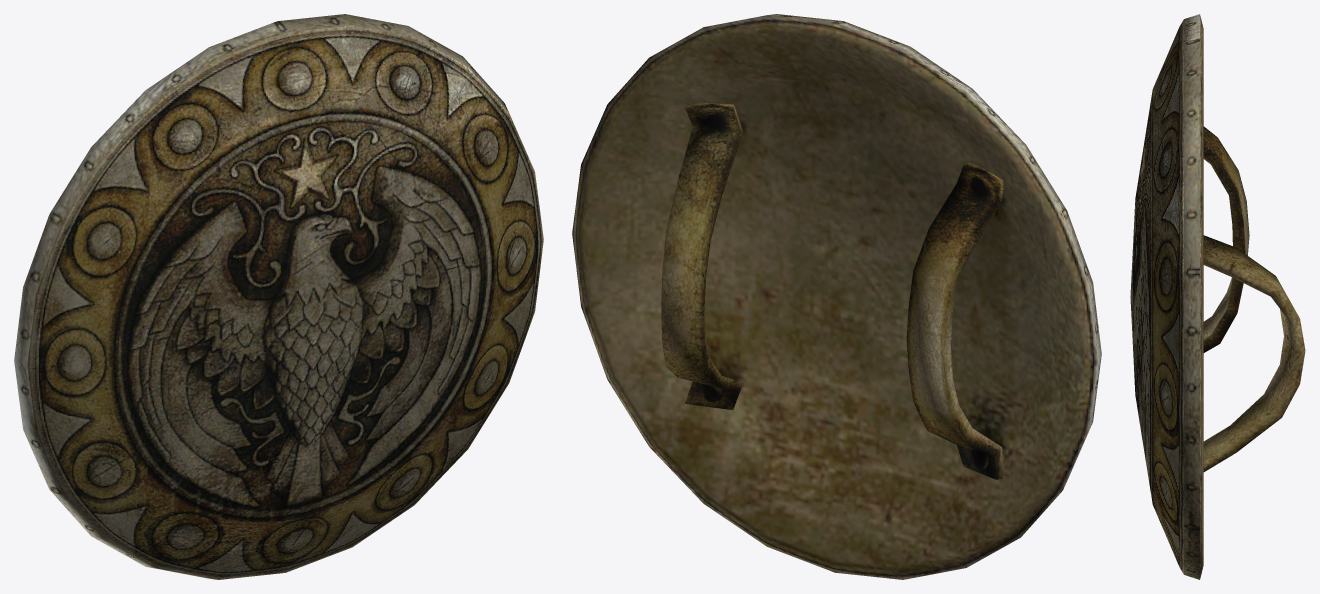
The model's file is Wonder_Woman_V_Shield.obj.
3 renders of one model, left to right at view 1: azimuth 30°, elevation 25°; view 2: azimuth 150°, elevation 25°; view 3: azimuth 270°, elevation 25°, orthographic. The views are drawn at different scales.
Parts seen in each view (by area): view 1: WWVshield; view 2: WWVshield; view 3: WWVshield.
Part boxes in pixels (box(x1,y1,x2,y2)): WWVshield: box(14, 14, 543, 579); WWVshield: box(572, 14, 1101, 579); WWVshield: box(1130, 14, 1305, 579).
Bounding box in the file's own units: 0.8476 × 0.8476 × 0.2611.
1 material, 1 textured.
